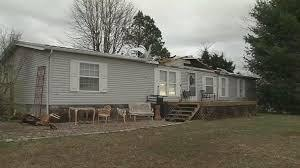major: (0, 40, 266, 126)
